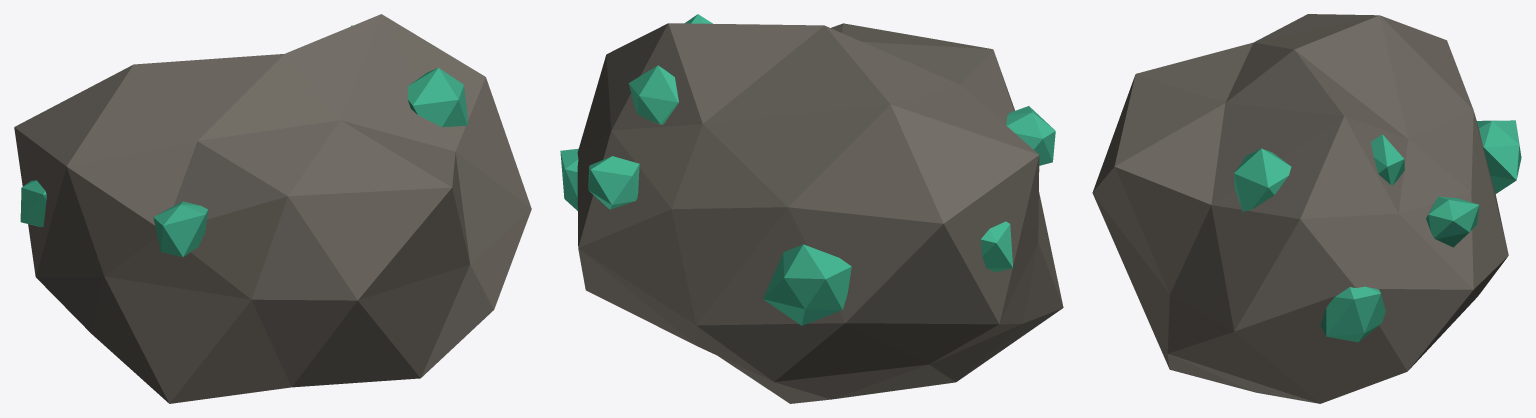
The model's file is ore_copper.glb.
3 renders of one model, left to right at view 1: azimuth 30°, elevation 25°; view 2: azimuth 150°, elevation 25°; view 3: azimuth 270°, elevation 25°, orthographic. The views are drawn at different scales.
Visible parts, largest first — view 1: ore_copper; view 2: ore_copper; view 3: ore_copper.
Part boxes in pixels (bbox=[...]): ore_copper: bbox=[14, 14, 531, 403]; ore_copper: bbox=[560, 14, 1063, 403]; ore_copper: bbox=[1092, 14, 1521, 403].
Size of the model in its own units: 1.37 by 1.03 by 1.19.
